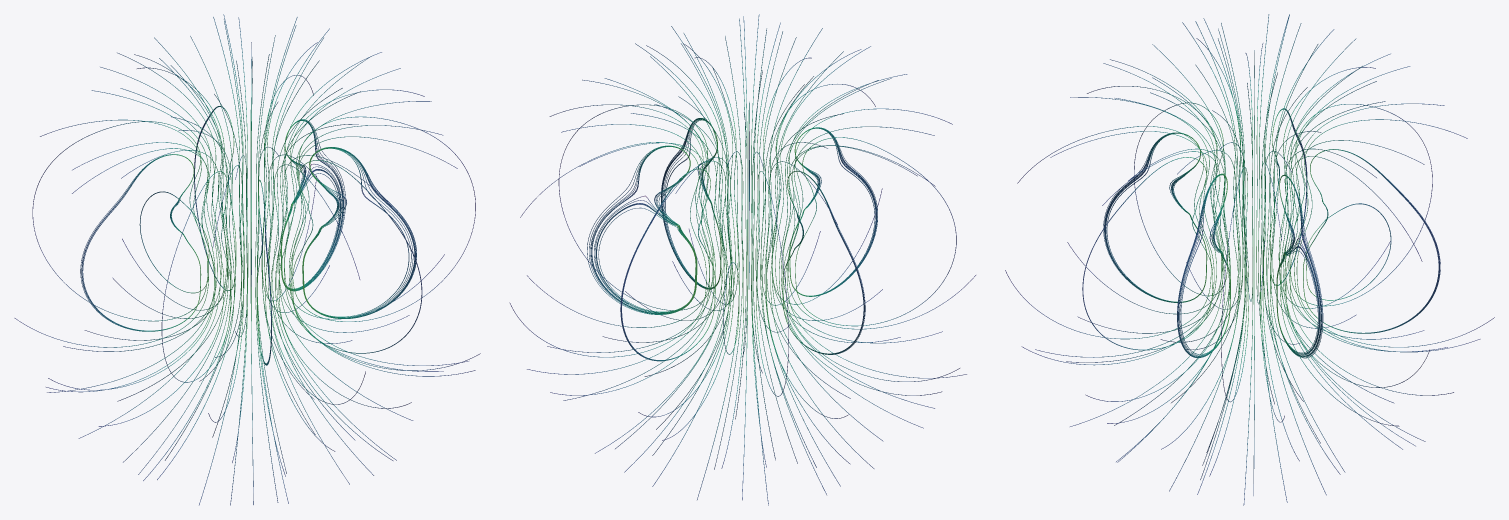
File: coil_4_field_lines.gltf
The picture shows the model from 3 angles, left to right: view 1: azimuth 30°, elevation 25°; view 2: azimuth 150°, elevation 25°; view 3: azimuth 270°, elevation 25°; orthographic projection.
Visible parts, largest first — view 1: Renderer Node; view 2: Renderer Node; view 3: Renderer Node.
Boxes of the visible parts, x1,y1,x2,y2 form: Renderer Node: (14, 14, 480, 505); Renderer Node: (509, 14, 975, 505); Renderer Node: (1005, 14, 1494, 505).
Bounding box in the file's own units: 2.03 × 2.06 × 2.06.
1 material, 1 textured.
